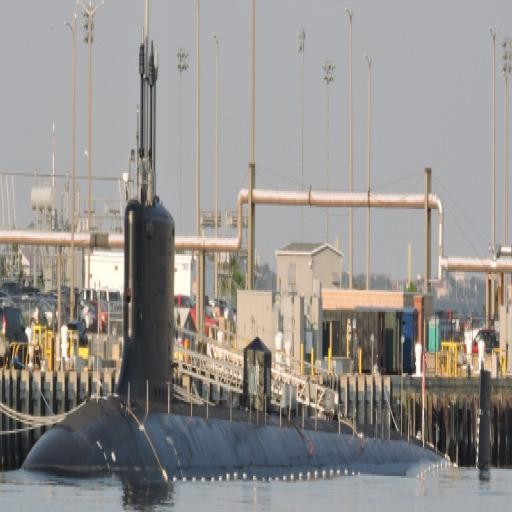submarine: (22, 32, 490, 475)
